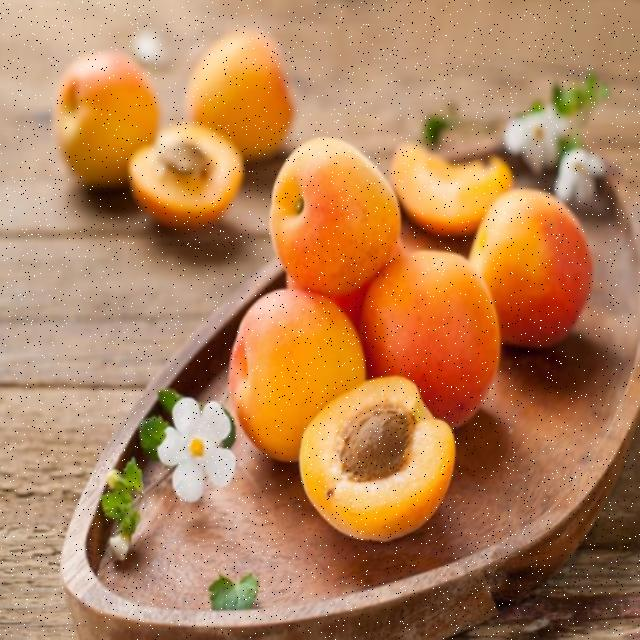cekirdek: (346, 411, 414, 475), (166, 141, 212, 178)
kayisi: (211, 310, 364, 445), (314, 392, 437, 534), (363, 253, 483, 396), (286, 137, 389, 274), (67, 63, 155, 202), (486, 198, 586, 313), (190, 57, 304, 144), (131, 125, 231, 204), (400, 158, 497, 231)
yaprak: (552, 76, 619, 134), (106, 448, 145, 524), (210, 592, 264, 631), (143, 388, 172, 451)
